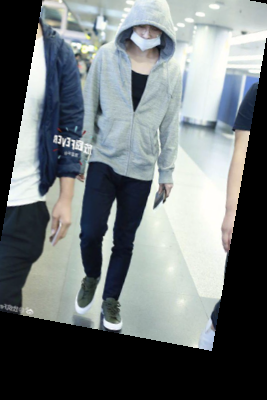mask_weared_incorrect: (107, 1, 187, 68)
